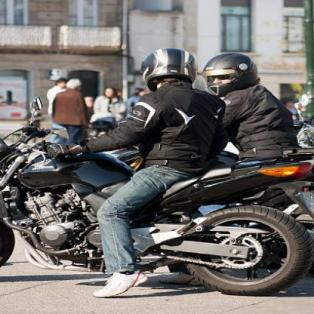Motocicleta: (0, 121, 313, 296)
